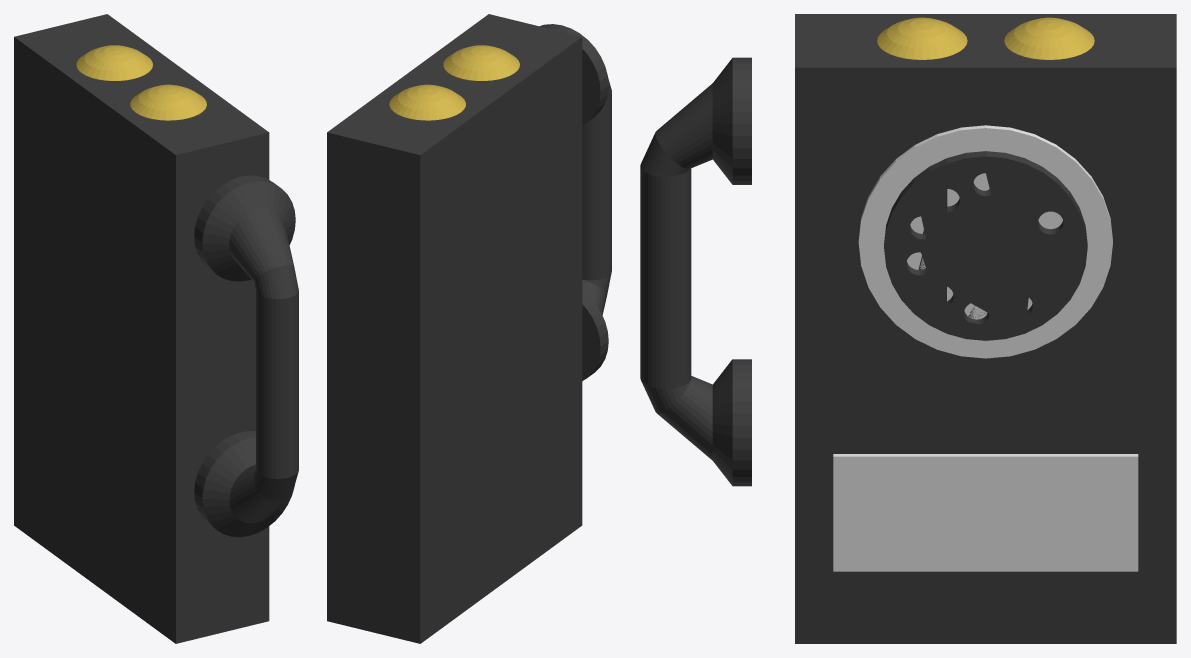
Rendered from Phone.fbx.
3 renders of one model, left to right at view 1: azimuth 30°, elevation 25°; view 2: azimuth 150°, elevation 25°; view 3: azimuth 270°, elevation 25°, orthographic. The views are drawn at different scales.
Parts seen in each view (by area): view 1: Cube.001; view 2: Cube.001; view 3: Cube.001.
Part boxes in pixels (x1,y1,x2,y2): Cube.001: [14, 14, 298, 643]; Cube.001: [327, 14, 611, 643]; Cube.001: [640, 14, 1176, 643].
Bounding box in the file's own units: 23 × 103 × 84.34.
